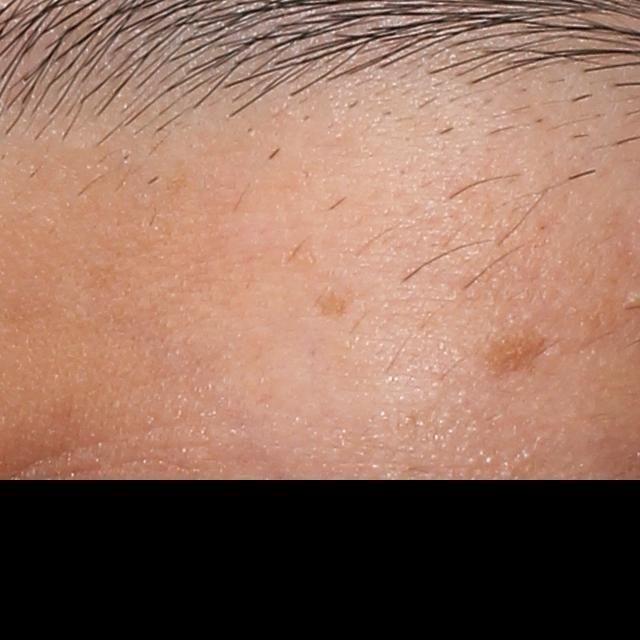melasma: (479, 329, 552, 380), (315, 288, 355, 319)
